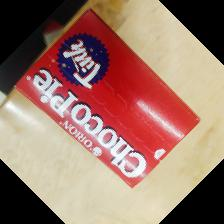Chocopie: (14, 6, 199, 188)
